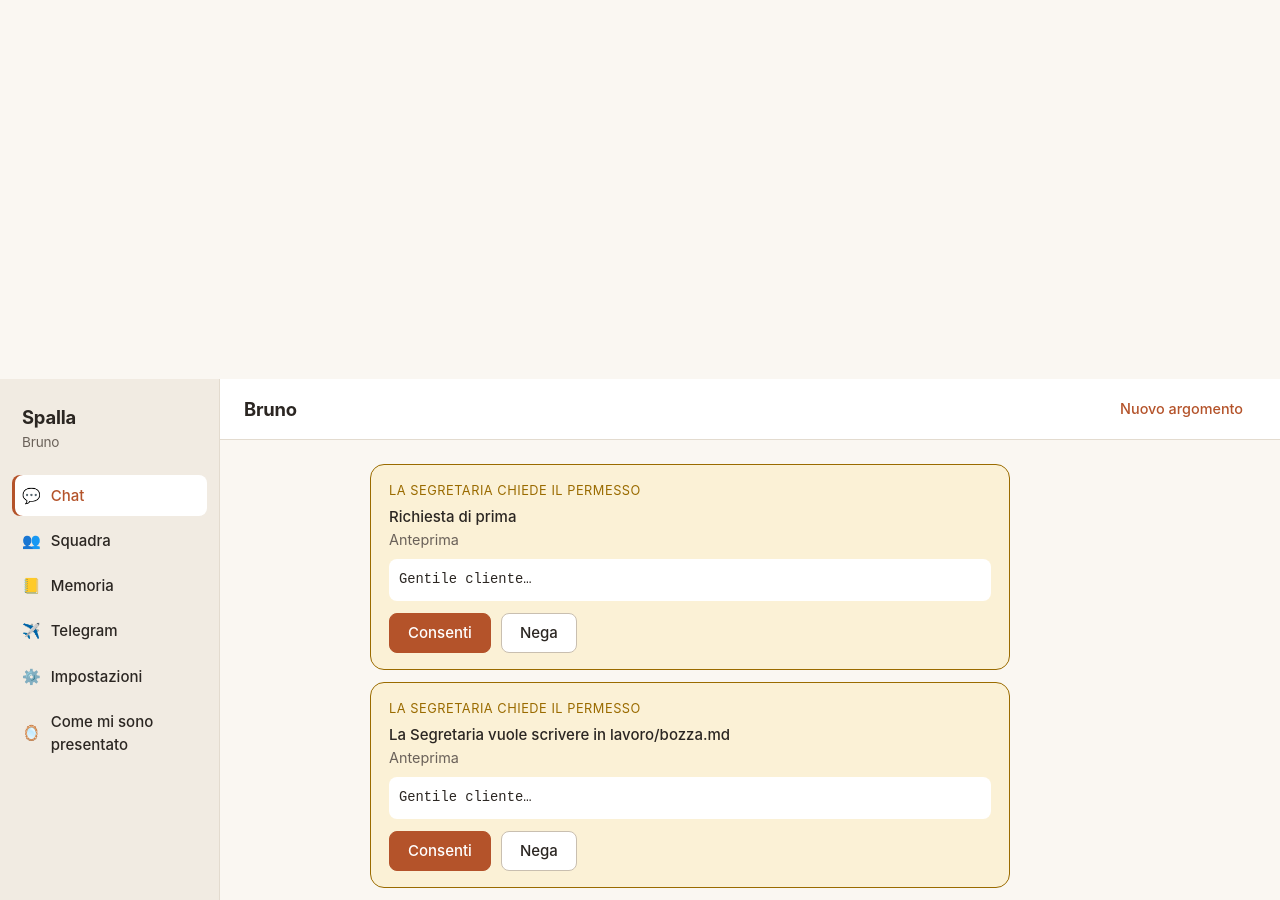
Scenario: la chat nella finestra › permessi come schede con chi agisce, anteprima e [Consenti] [Nega]; anche quelli già in attesa
(page scrolled)
Expected: the text "Richiesta di prima" is shown, [389,507,516,526]
Expected: the 2nd text "Gentile cliente…" is shown, [389,777,991,819]
Click the 2nd button "Consenti".
click(440, 851)  # box [389,831,491,871]
(page scrolled)
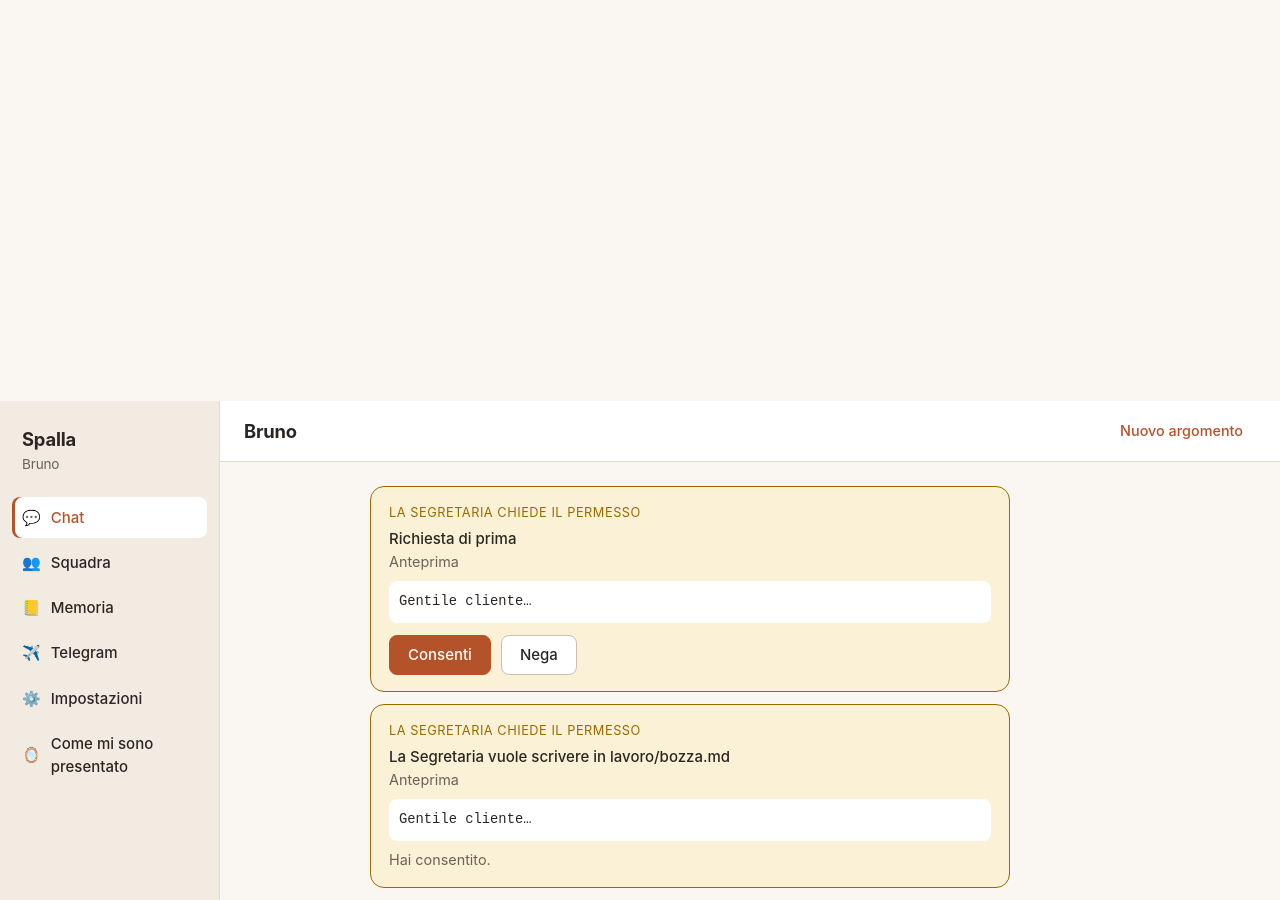
Now the text "Hai consentito." is shown, box [389,851,491,868]
Click the button "Nega".
click(539, 655)  # box [501,635,577,675]
(page scrolled)
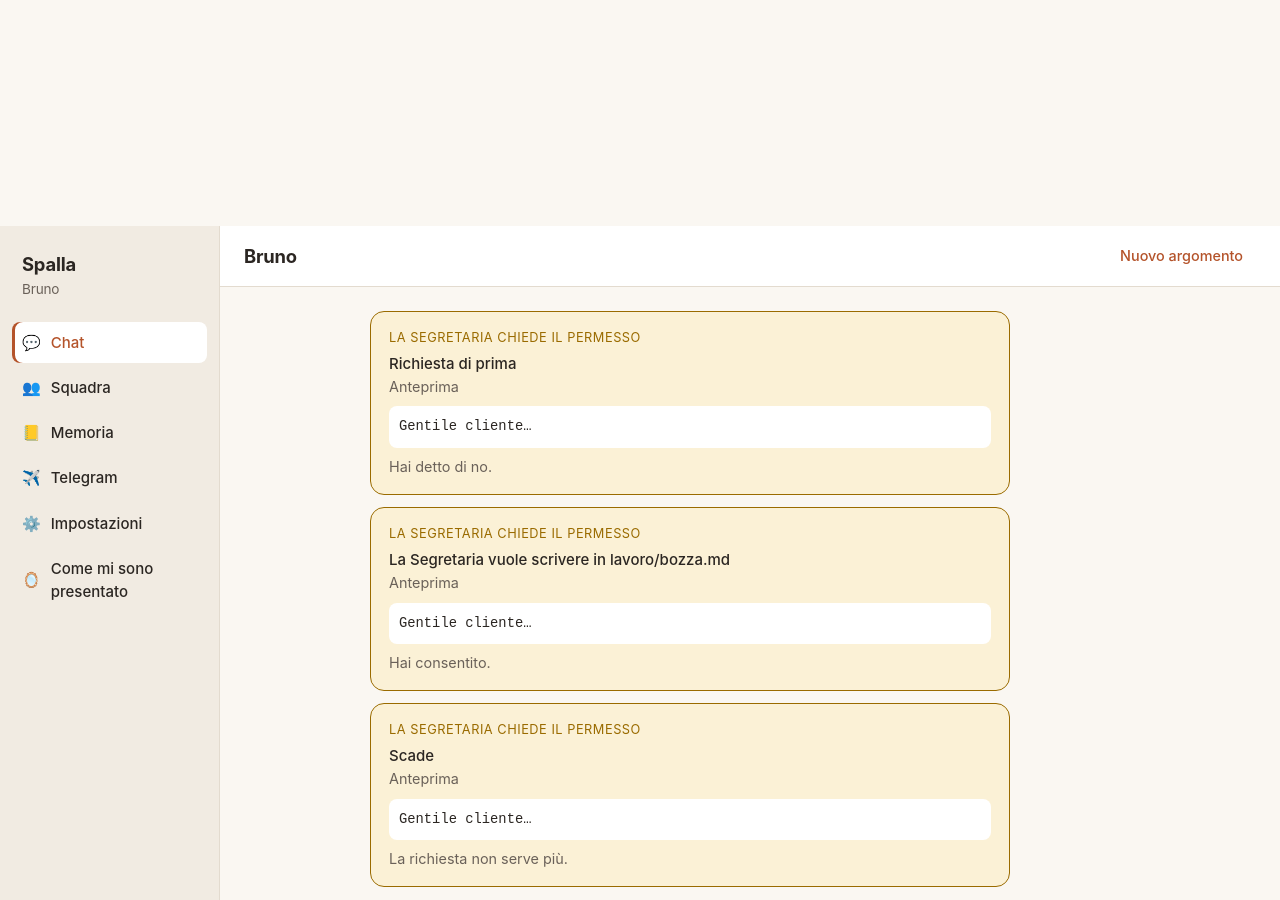
Now the text "La richiesta non serve più." is shown, box [389,850,568,867]
